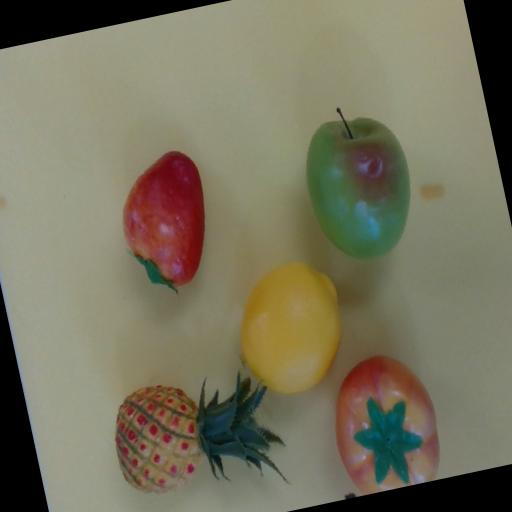apple: (293, 96, 424, 266), (119, 149, 209, 293)
lemon: (229, 256, 351, 400)
mango: (120, 149, 208, 294)
pineapple: (109, 368, 287, 497)
tomato: (321, 346, 448, 497)
